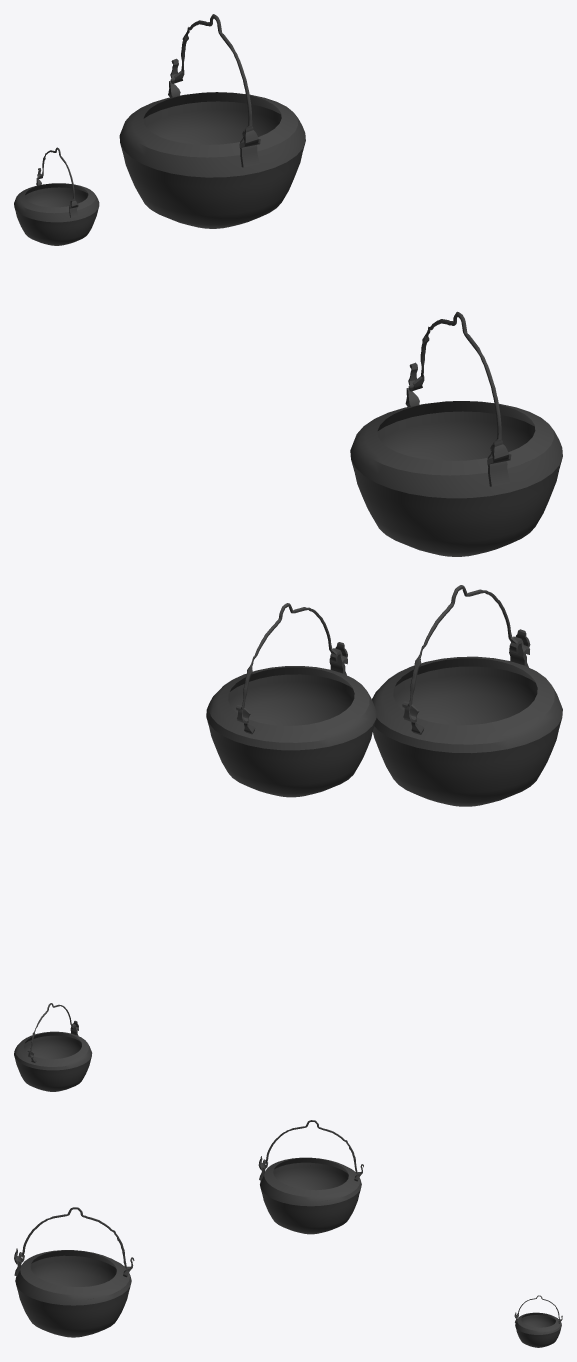
The model's file is POTS.fbx.
3 views of the same model, one above another, from view 1: azimuth 30°, elevation 25°; view 2: azimuth 150°, elevation 25°; view 3: azimuth 270°, elevation 25° (orthographic). The views are drawn at different scales.
Parts seen in each view (by area): view 1: Circle.005, Circle.012, Circle.001; view 2: Circle.005, Circle.012, Circle.001; view 3: Circle.005, Circle.012, Circle.001.
Part boxes in pixels (x1=…): Circle.005: x1=350, y1=311, x2=562, y2=556; Circle.012: x1=119, y1=14, x2=305, y2=228; Circle.001: x1=14, y1=147, x2=99, y2=245; Circle.005: x1=372, y1=585, x2=562, y2=806; Circle.012: x1=206, y1=603, x2=376, y2=797; Circle.001: x1=14, y1=1003, x2=92, y2=1091; Circle.005: x1=14, y1=1207, x2=134, y2=1337; Circle.012: x1=258, y1=1120, x2=363, y2=1234; Circle.001: x1=514, y1=1295, x2=562, y2=1347.
Size of the model in its own units: 175 by 323 by 760.
